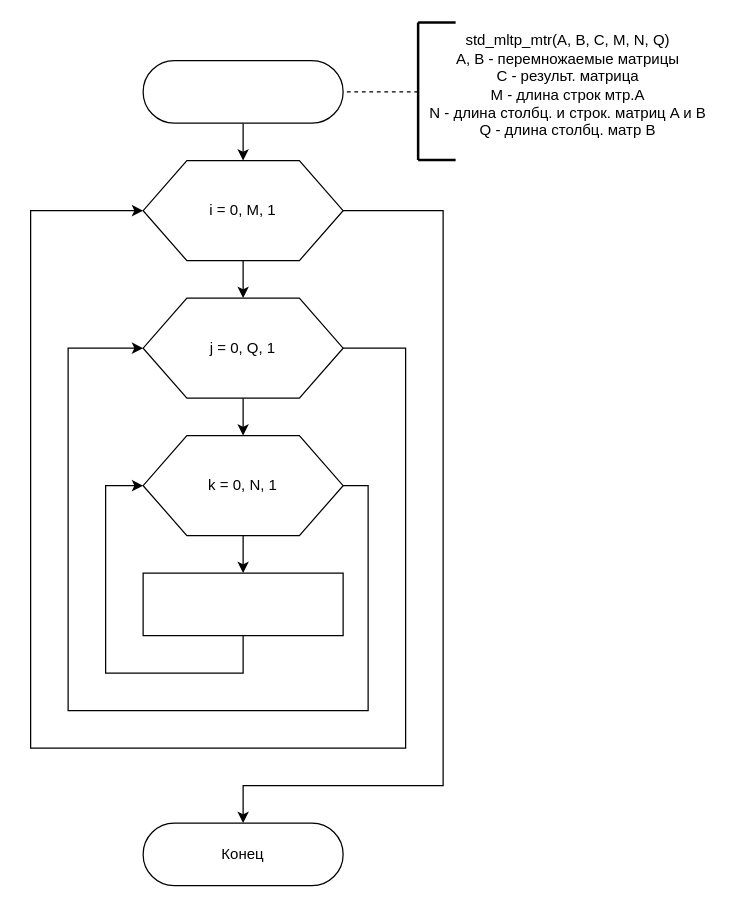
The diagram is 740 pixels wide and 908 high, and some of its shapes have lost their labels. Here are the shapes that lost their labels. From the top down, the centre of each, then its label:
At point 242,91: "Начало".
At point 242,604: "C[i][j] = C[i][j] + A[i][k] * B[k][j]".
